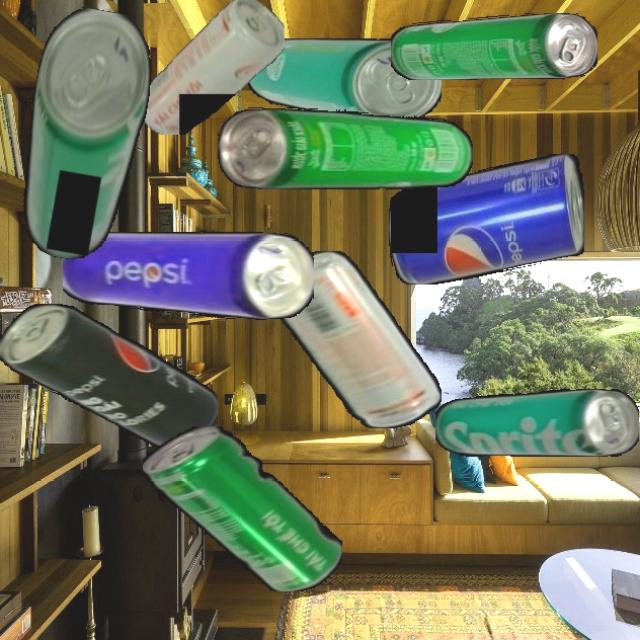debris: (7, 2, 162, 267), (142, 426, 342, 592), (260, 251, 442, 428), (0, 304, 218, 448), (388, 153, 584, 284), (62, 232, 314, 320), (218, 106, 473, 190), (138, 0, 284, 135), (246, 39, 442, 122), (434, 389, 639, 457), (390, 13, 597, 80)
